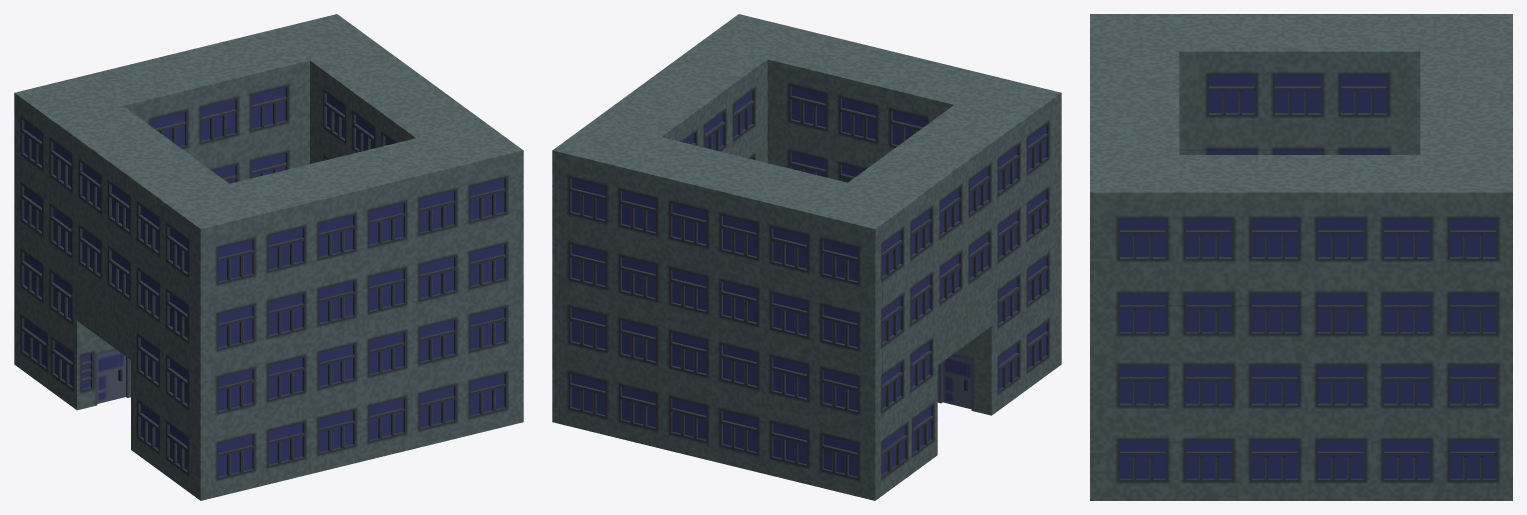
Rendered from big_b_uni5.dae.
3 views of the same model, side by side, from view 1: azimuth 30°, elevation 25°; view 2: azimuth 150°, elevation 25°; view 3: azimuth 270°, elevation 25° (orthographic). The views are drawn at different scales.
Visible parts, largest first — view 1: Content; view 2: Content; view 3: Content.
Part boxes in pixels (x1,y1,x2,y2): Content: [14, 14, 523, 500]; Content: [552, 14, 1061, 500]; Content: [1090, 14, 1512, 500].
Bounding box in the file's own units: 128 × 103 × 128.
Materials: 1 (1 with a texture image).
